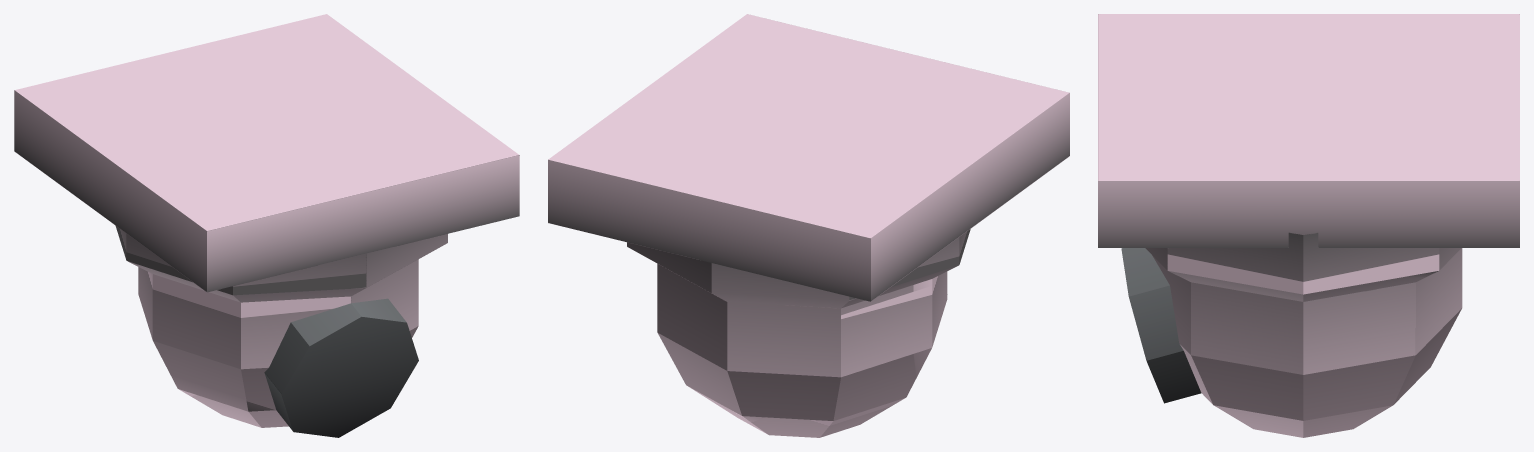
The model's file is Cctv.glb.
3 renders of one model, left to right at view 1: azimuth 30°, elevation 25°; view 2: azimuth 150°, elevation 25°; view 3: azimuth 270°, elevation 25°, orthographic. The views are drawn at different scales.
Parts seen in each view (by area): view 1: Cube, Sphere, Cylinder; view 2: Cube, Sphere; view 3: Cube, Sphere, Cylinder.
Boxes of the visible parts, x1=… form: Cube: x1=14, y1=14, x2=519, y2=292; Sphere: x1=115, y1=225, x2=447, y2=427; Cylinder: x1=264, y1=298, x2=418, y2=437; Cube: x1=548, y1=14, x2=1069, y2=301; Sphere: x1=627, y1=229, x2=970, y2=437; Cube: x1=1098, y1=14, x2=1519, y2=247; Sphere: x1=1145, y1=232, x2=1462, y2=437; Cylinder: x1=1121, y1=248, x2=1201, y2=403.
Bounding box in the file's own units: 2.46 × 2.17 × 2.59.
Materials: 2 (2 with a texture image).
